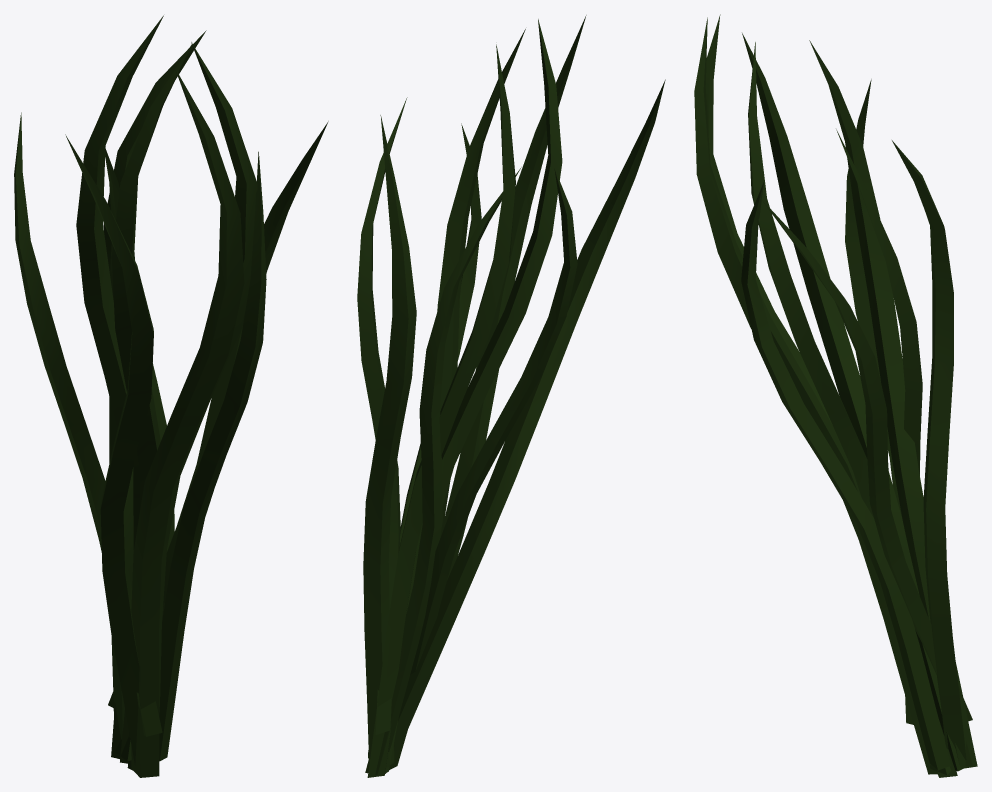
Rendered from Tall_Reed.fbx.
3 views of the same model, side by side, from view 1: azimuth 30°, elevation 25°; view 2: azimuth 150°, elevation 25°; view 3: azimuth 270°, elevation 25° (orthographic). The views are drawn at different scales.
Parts seen in each view (by area): view 1: Reed_014; view 2: Reed_014; view 3: Reed_014.
Boxes of the visible parts, bbox=[...] form: Reed_014: bbox=[14, 15, 328, 777]; Reed_014: bbox=[357, 15, 665, 777]; Reed_014: bbox=[694, 14, 977, 777].
Size of the model in its own units: 94.51 by 257 by 92.47.
